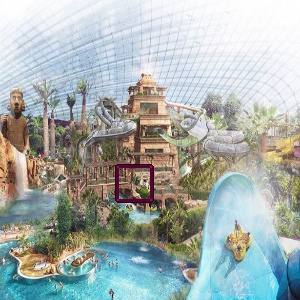square: (114, 162, 155, 205)
